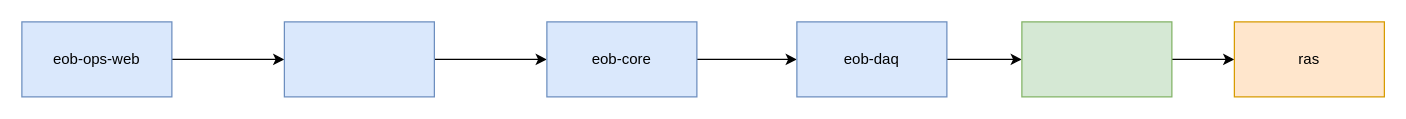
This 1406x119 diagram has some shape labels left out. The centre of each missing label's shape, as x and y in pixels:
"eob-ops-service" goes at (x=358, y=59).
"oss" goes at (x=1096, y=59).
